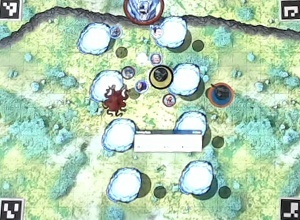giant_red_octopus: (103, 90, 126, 113)
light_blue_orange: (209, 83, 232, 106)
lime_green_violet: (149, 66, 172, 89)
